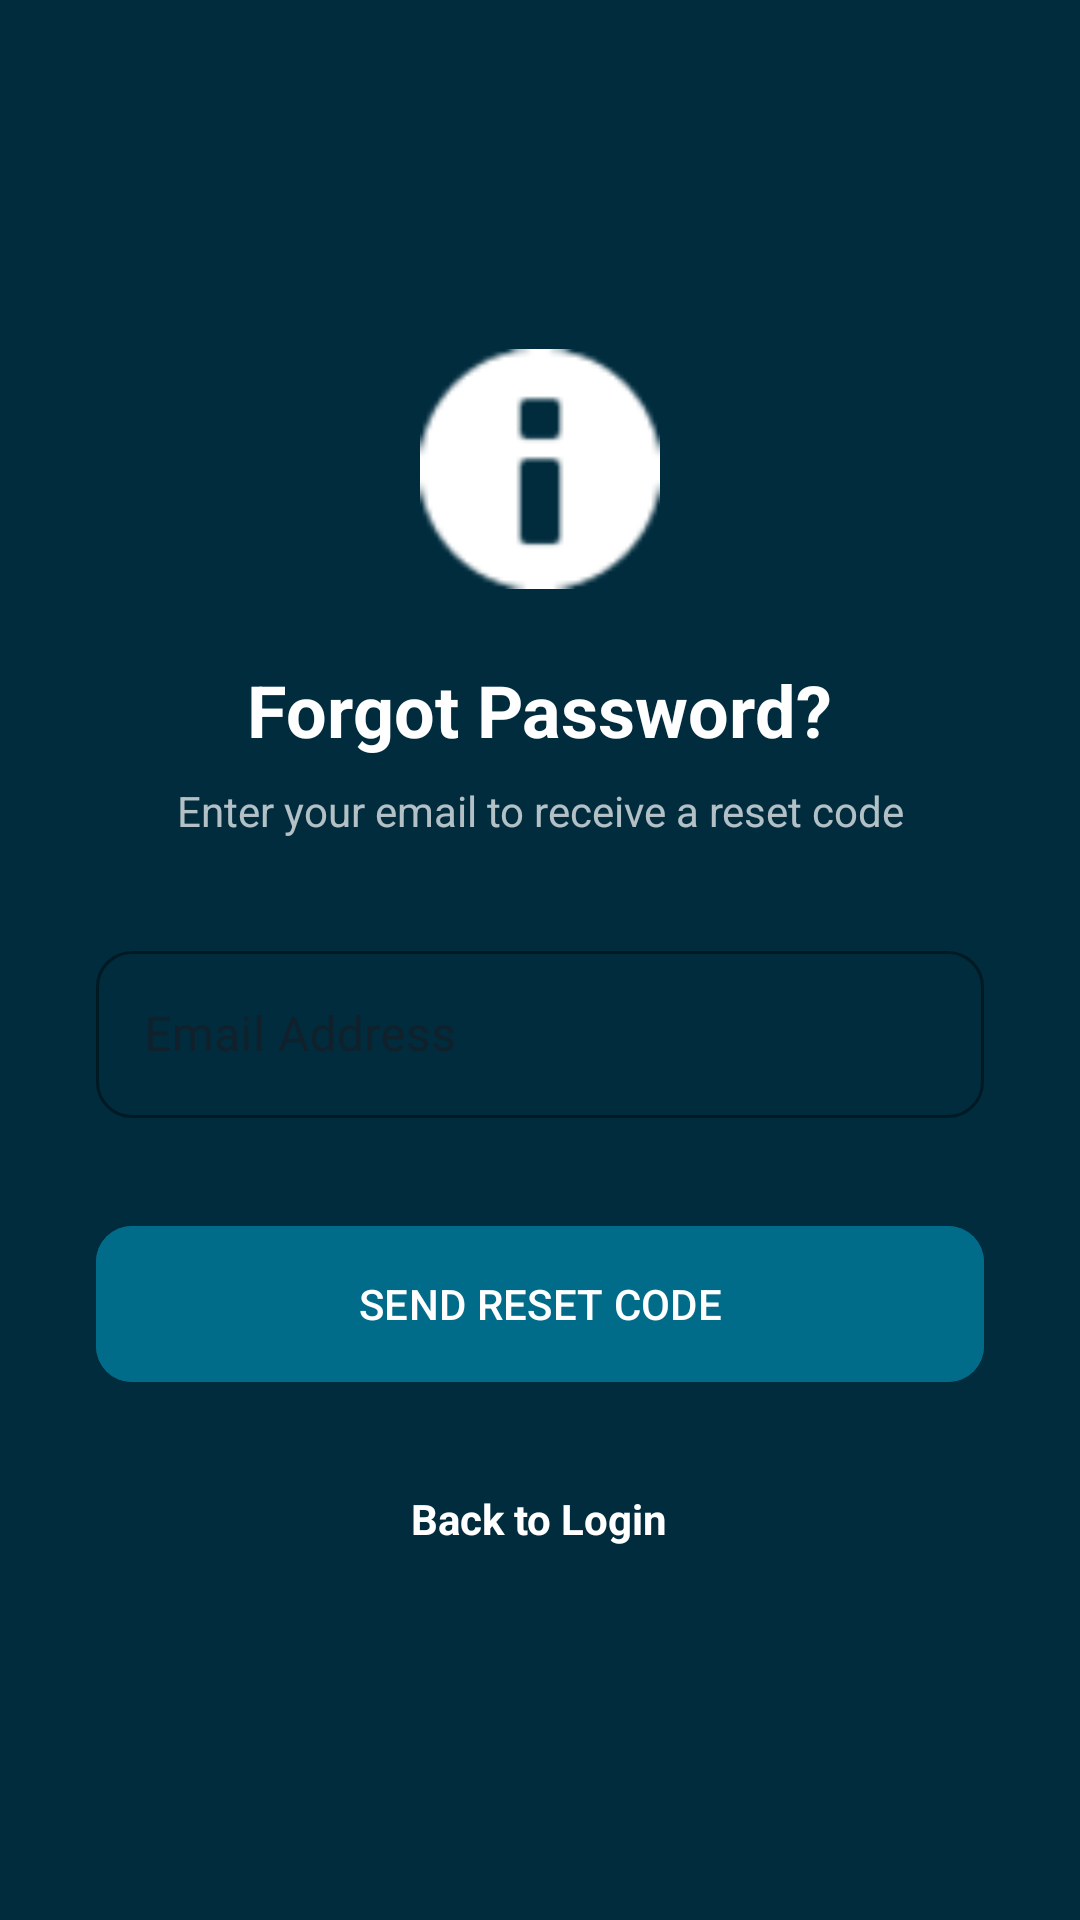

Icon bounding boxes for this 1080 x 1920 phone screenshot, format (x1,y1,x2,y2):
info: (420,349,660,589)
